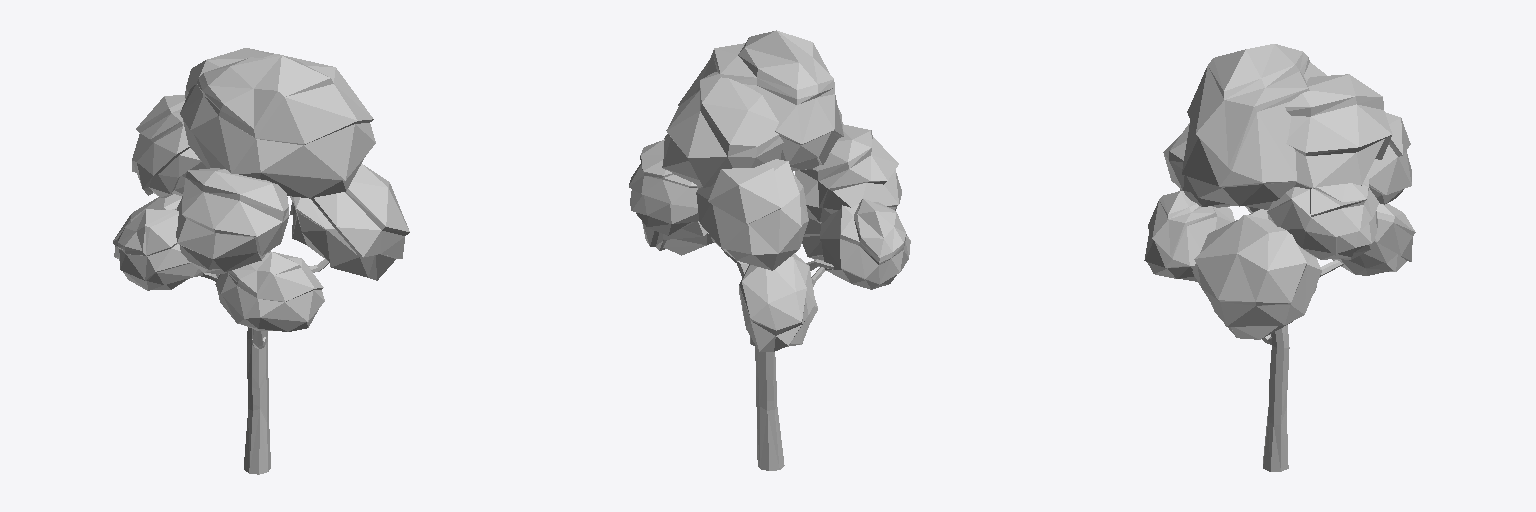
File: btree2.obj
The picture shows the model from 3 angles: view 1: azimuth 30°, elevation 25°; view 2: azimuth 150°, elevation 25°; view 3: azimuth 270°, elevation 25°; orthographic projection.
Visible parts, largest first — view 1: PP_Birch_Tree_06; view 2: PP_Birch_Tree_06; view 3: PP_Birch_Tree_06.
Boxes of the visible parts, <box> form: PP_Birch_Tree_06: <box>113,48,409,474</box>; PP_Birch_Tree_06: <box>629,30,910,470</box>; PP_Birch_Tree_06: <box>1144,44,1415,471</box>.
Bounding box in the file's own units: 5.89 × 8.86 × 5.16.